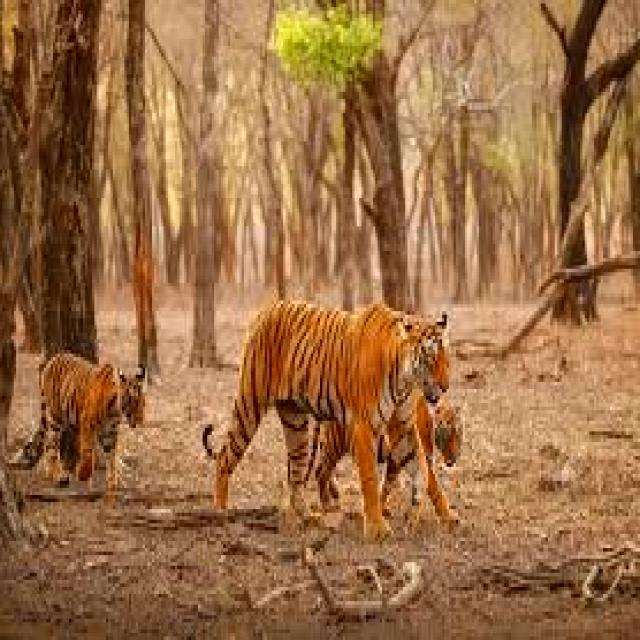tiger: (205, 301, 454, 530), (23, 354, 145, 488)
